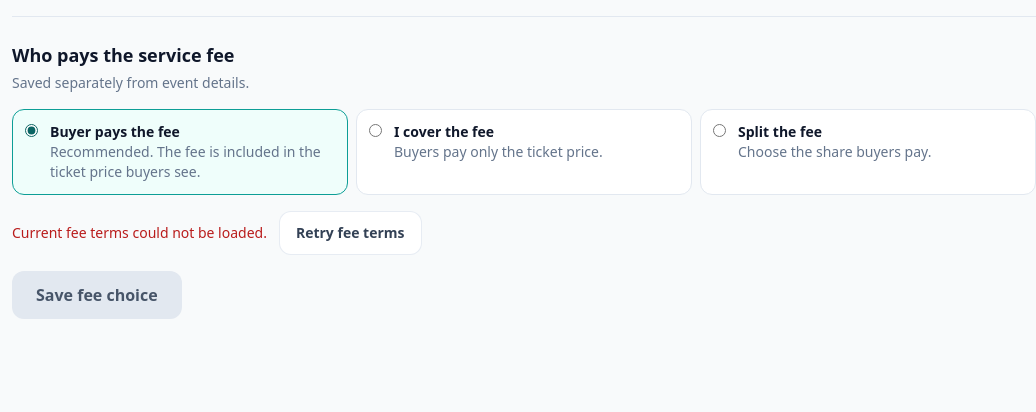
Scenario: FeePolicyPanel › offers a retry instead of a guessed example when fee terms cannot load
The image size is (1036, 412).
Click the button "Retry fee terms" at (350, 233), box [279,211,422,255]
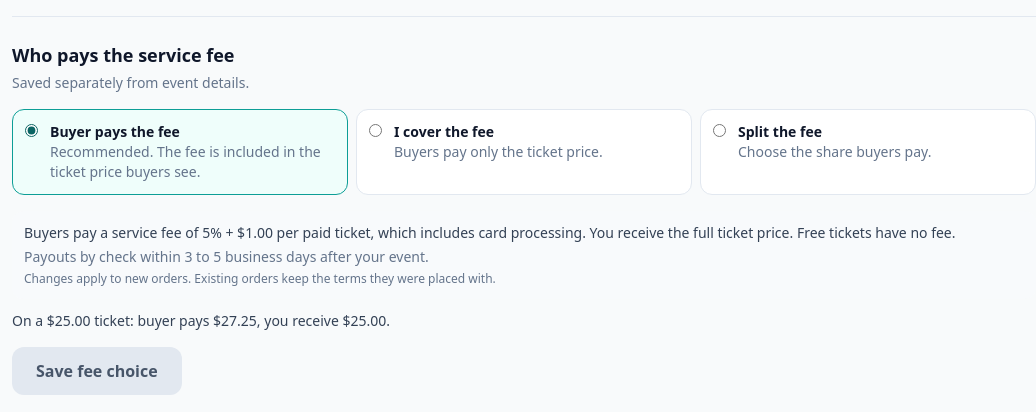
expect the text "On a $25.00 ticket: buyer pays $27.25, you receive $25.00." is shown: met, box [12,311,390,330]
